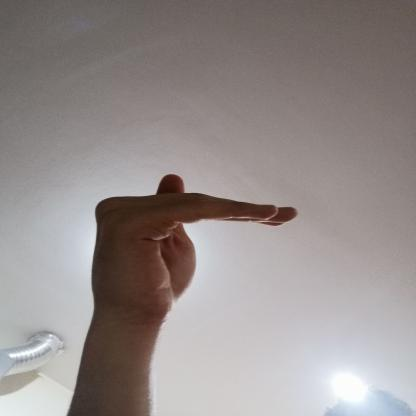KHAA: (75, 165, 313, 330)
